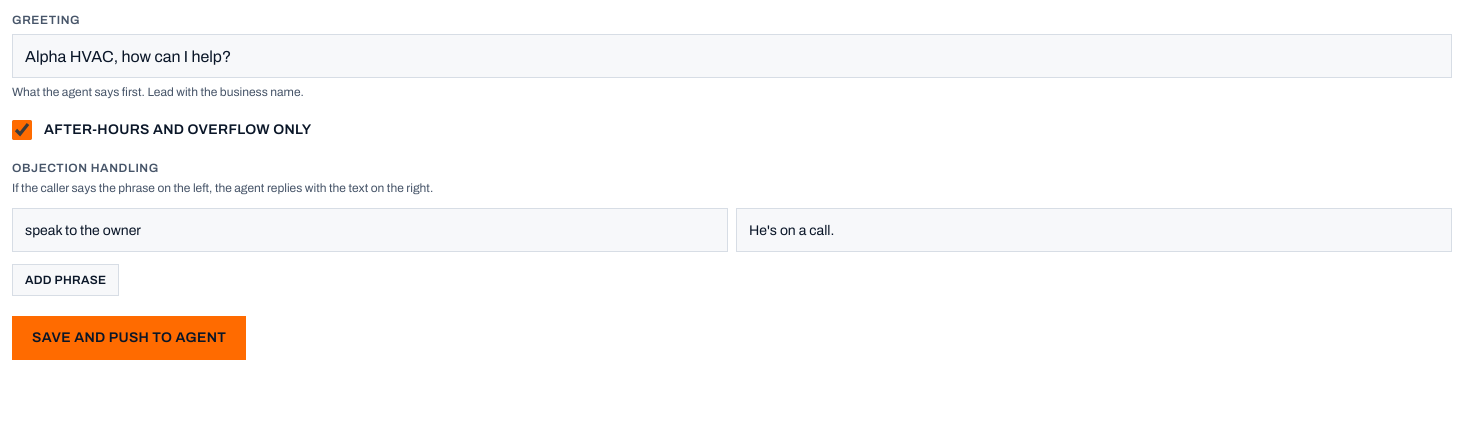
Scenario: PromptEditor › surfaces a failed save and does not claim success
The image size is (1464, 443).
Click the button "Save and push to agent".
click(129, 338)  # box [12,316,246,360]
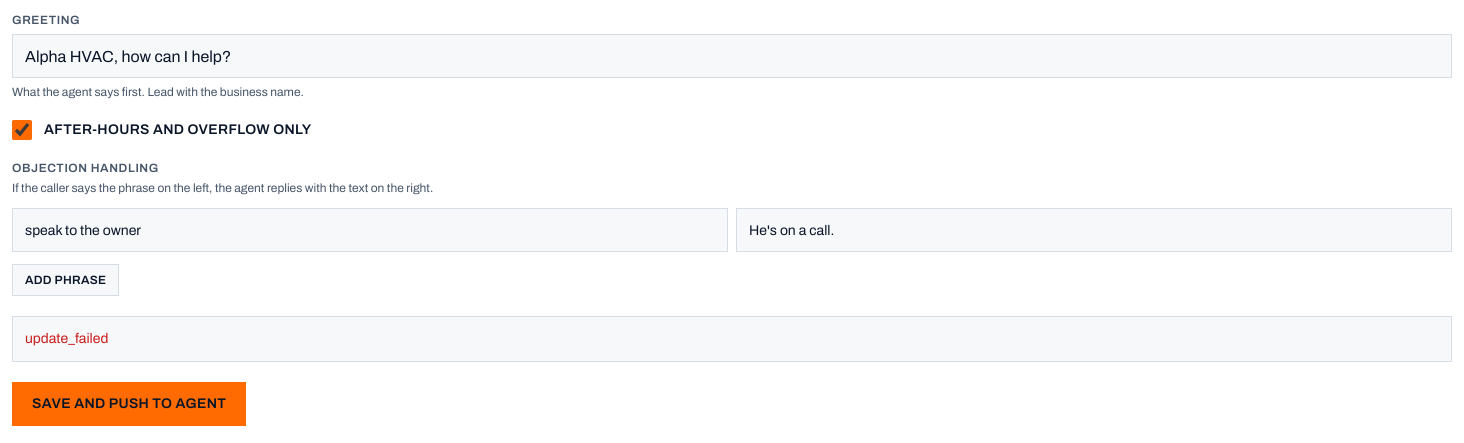
Result: the message reads "update_failed" at [25,331,108,346]
